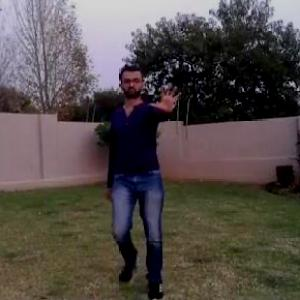follow_hand: (148, 76, 184, 112)
